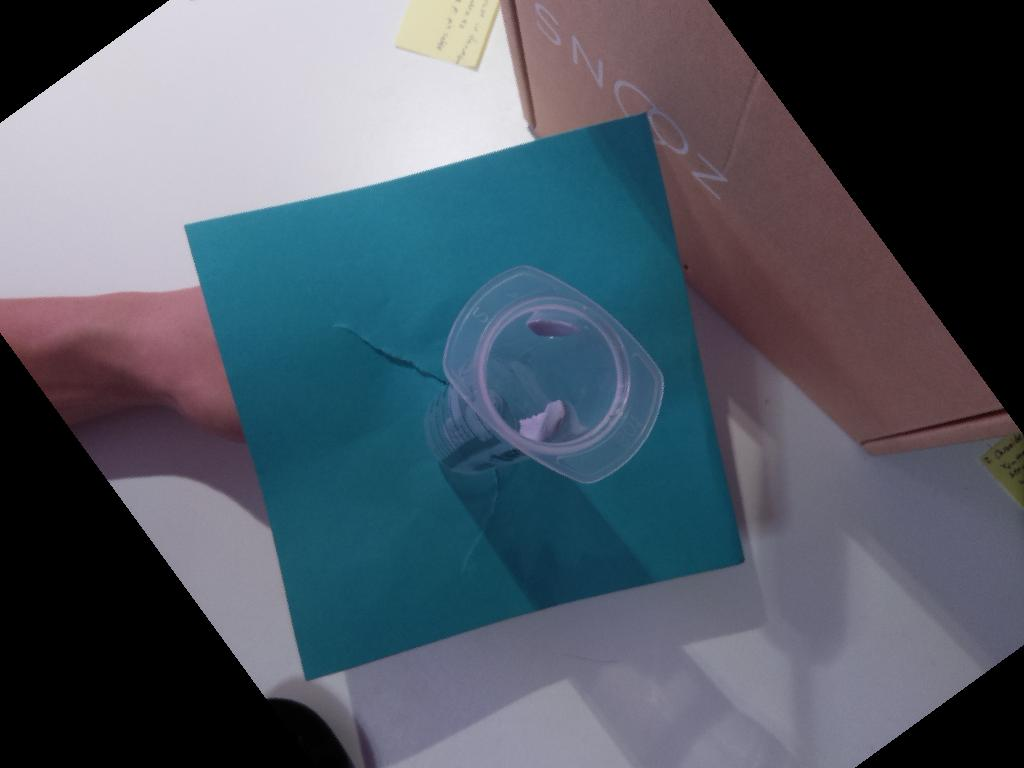dirty: (441, 263, 664, 485)
